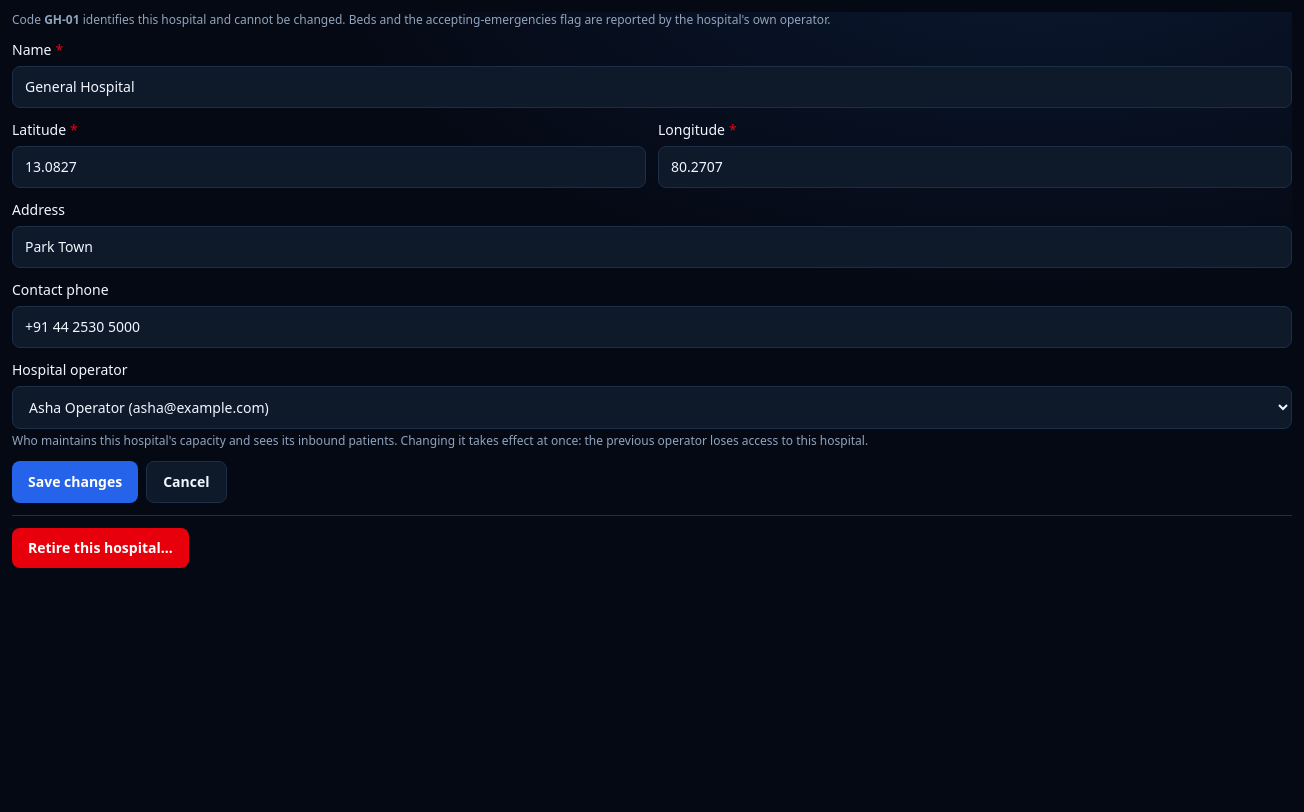
HospitalEditForm › asks twice before retiring, and shows the server's reason when it refuses
Click the button "Retire this hospital…": (100, 548) [12,528,189,568]
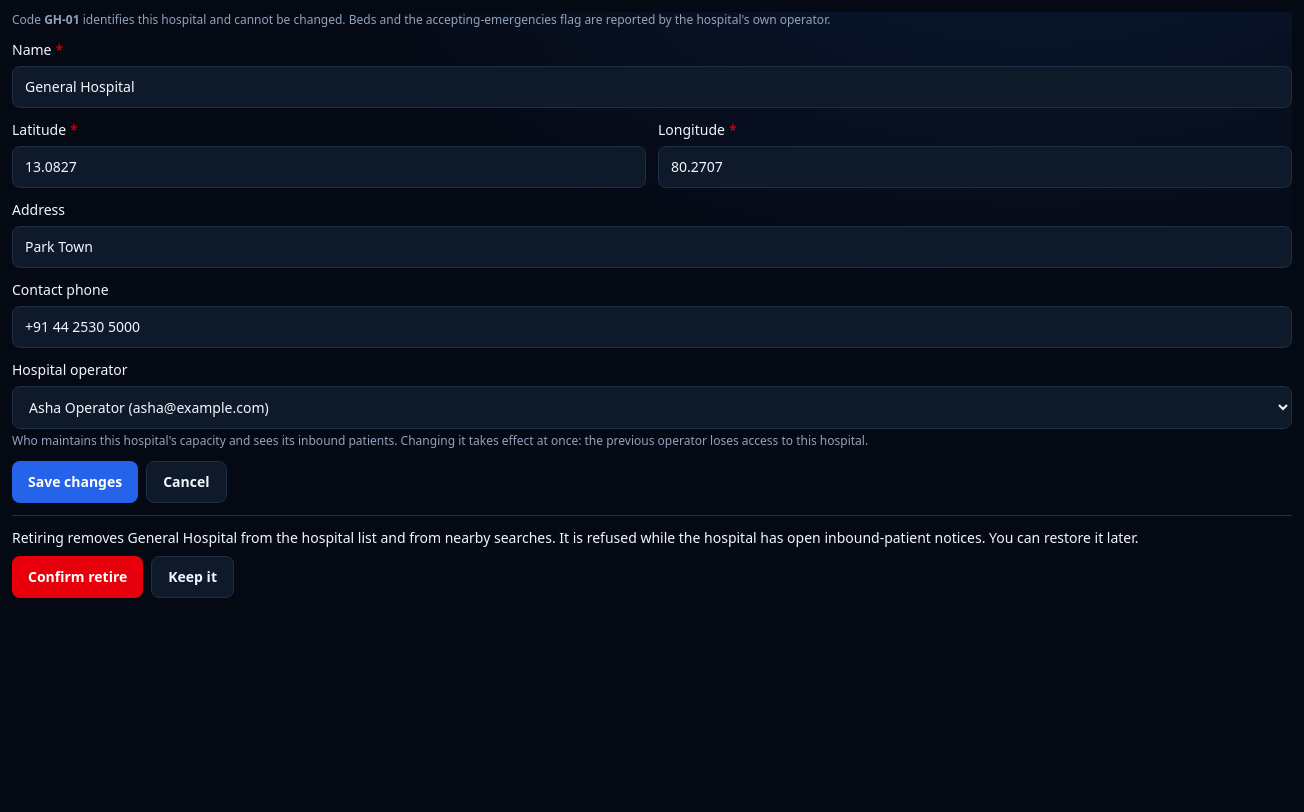
Click the button "Confirm retire": (78, 577) [12,556,143,598]
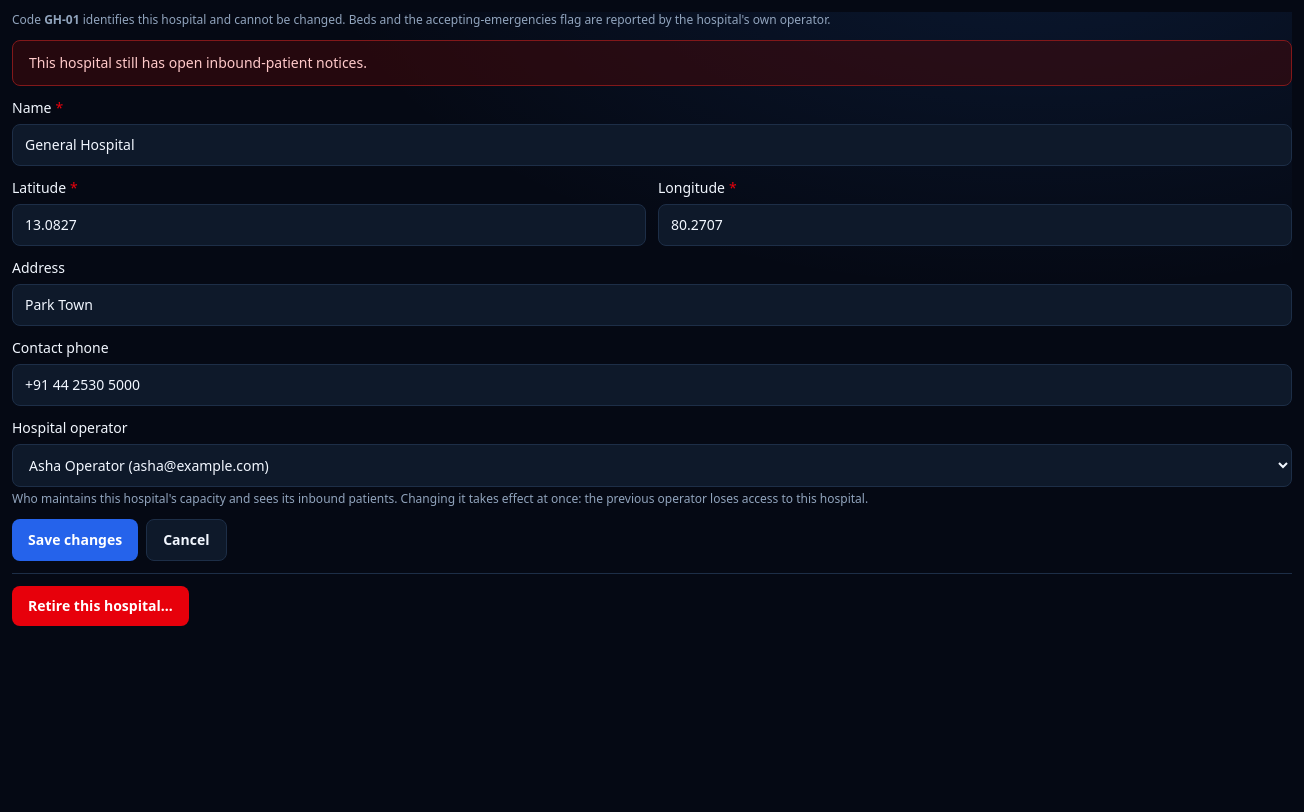
Check: the message shows "open inbound-patient notices", box [29,53,367,72]
Check: the button "Retire this hospital…" is shown, box [12,586,189,626]
